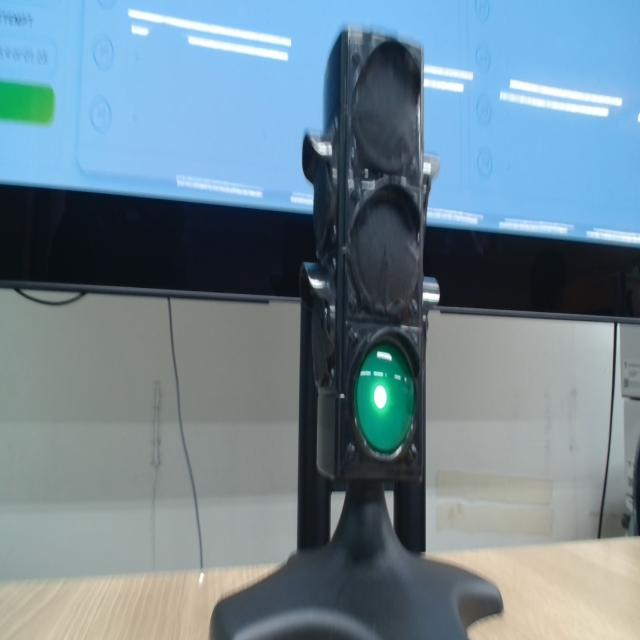green_light: (355, 344, 414, 453)
